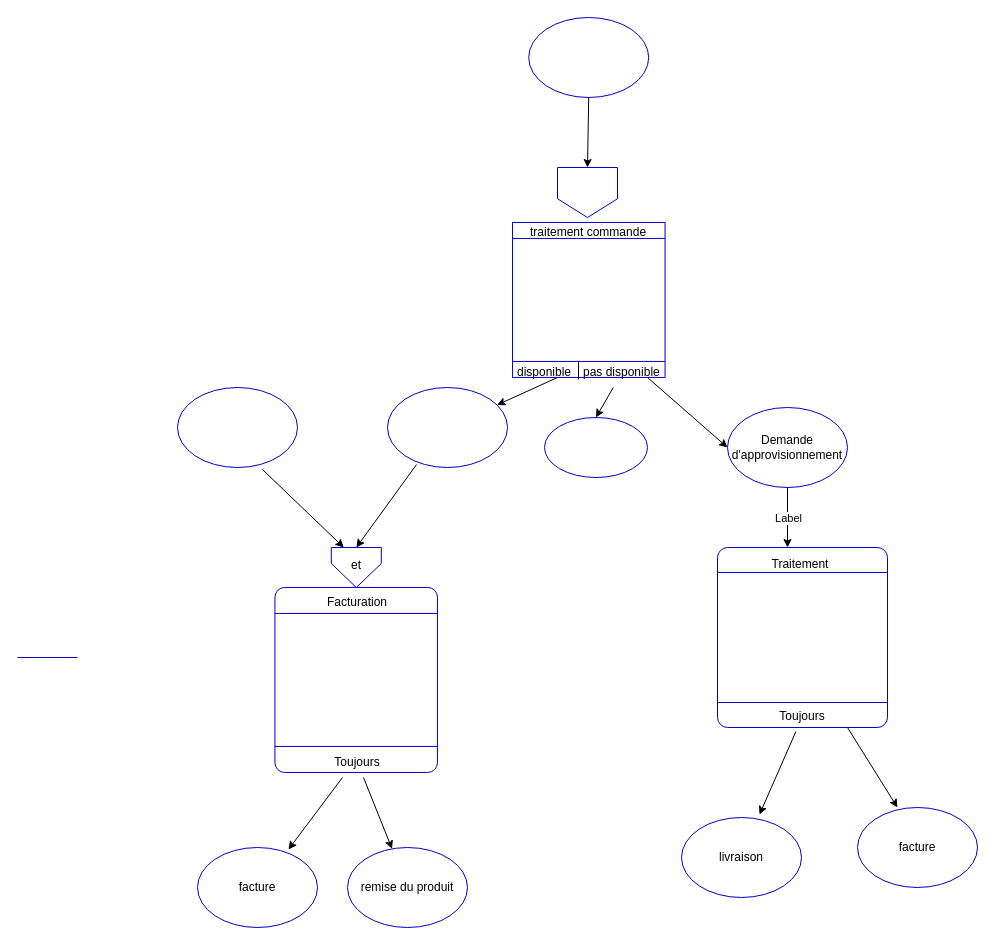
Some shapes in this 995 by 945 pixel diagram are drawn without their labels. The shapes that lost their labels are listed below. From the top down, each one's centre as x and y in pixels, then its label:
At [588,57]: "passer une commande".
At [237,427]: "payement".
At [447,427]: "message de dispo".
At [596,447]: "mesaage de non disponibilite".
